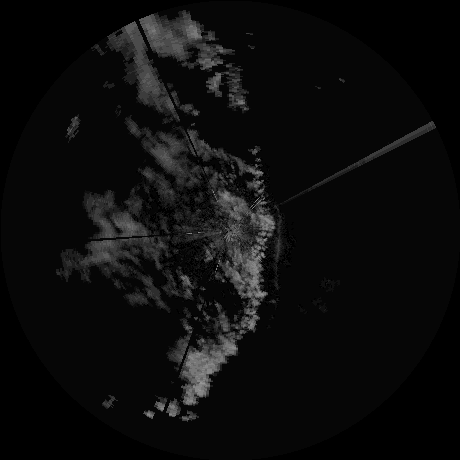frontgust: (271, 206, 284, 298)
